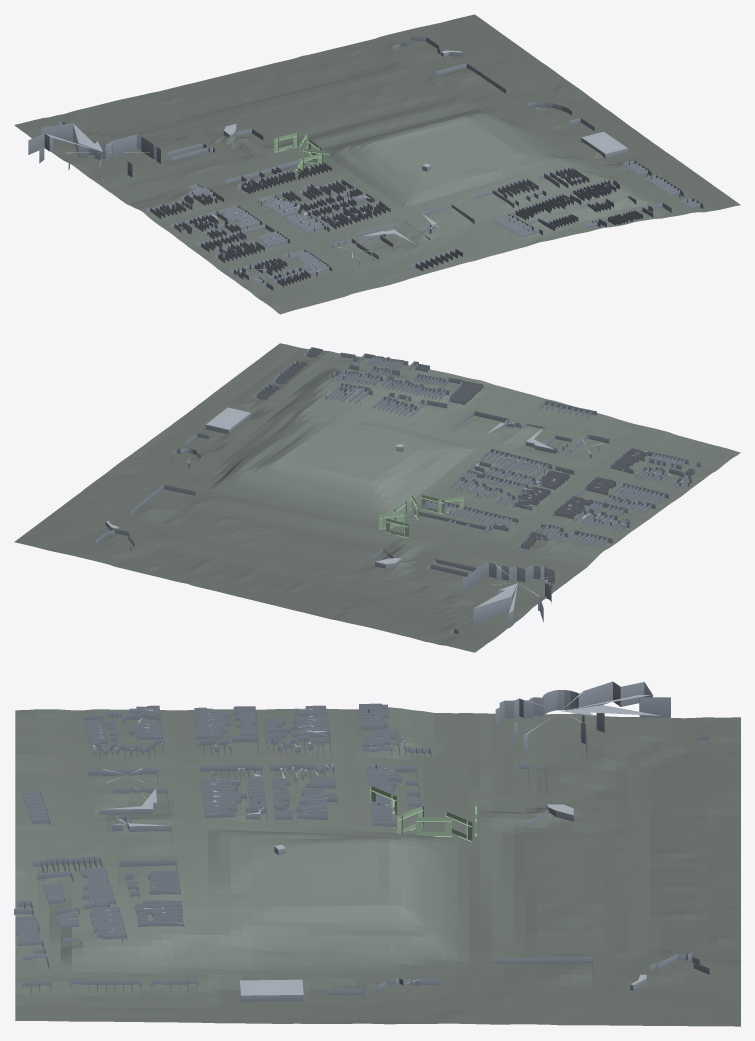
Rendered from hub_02_harbor_temple_chisel.glb.
The picture shows the model from 3 angles, top to bottom: view 1: azimuth 30°, elevation 25°; view 2: azimuth 150°, elevation 25°; view 3: azimuth 270°, elevation 25°; orthographic projection. The views are drawn at different scales.
Parts seen in each view (by area): view 1: DISTRICT_CHISEL_COLLIDER; view 2: DISTRICT_CHISEL_COLLIDER; view 3: DISTRICT_CHISEL_COLLIDER.
Part boxes in pixels (x1,y1,x2,y2): DISTRICT_CHISEL_COLLIDER: [14, 14, 740, 314]; DISTRICT_CHISEL_COLLIDER: [14, 343, 740, 652]; DISTRICT_CHISEL_COLLIDER: [14, 681, 740, 1026].
Size of the model in its own units: 168 by 8.64 by 160.
